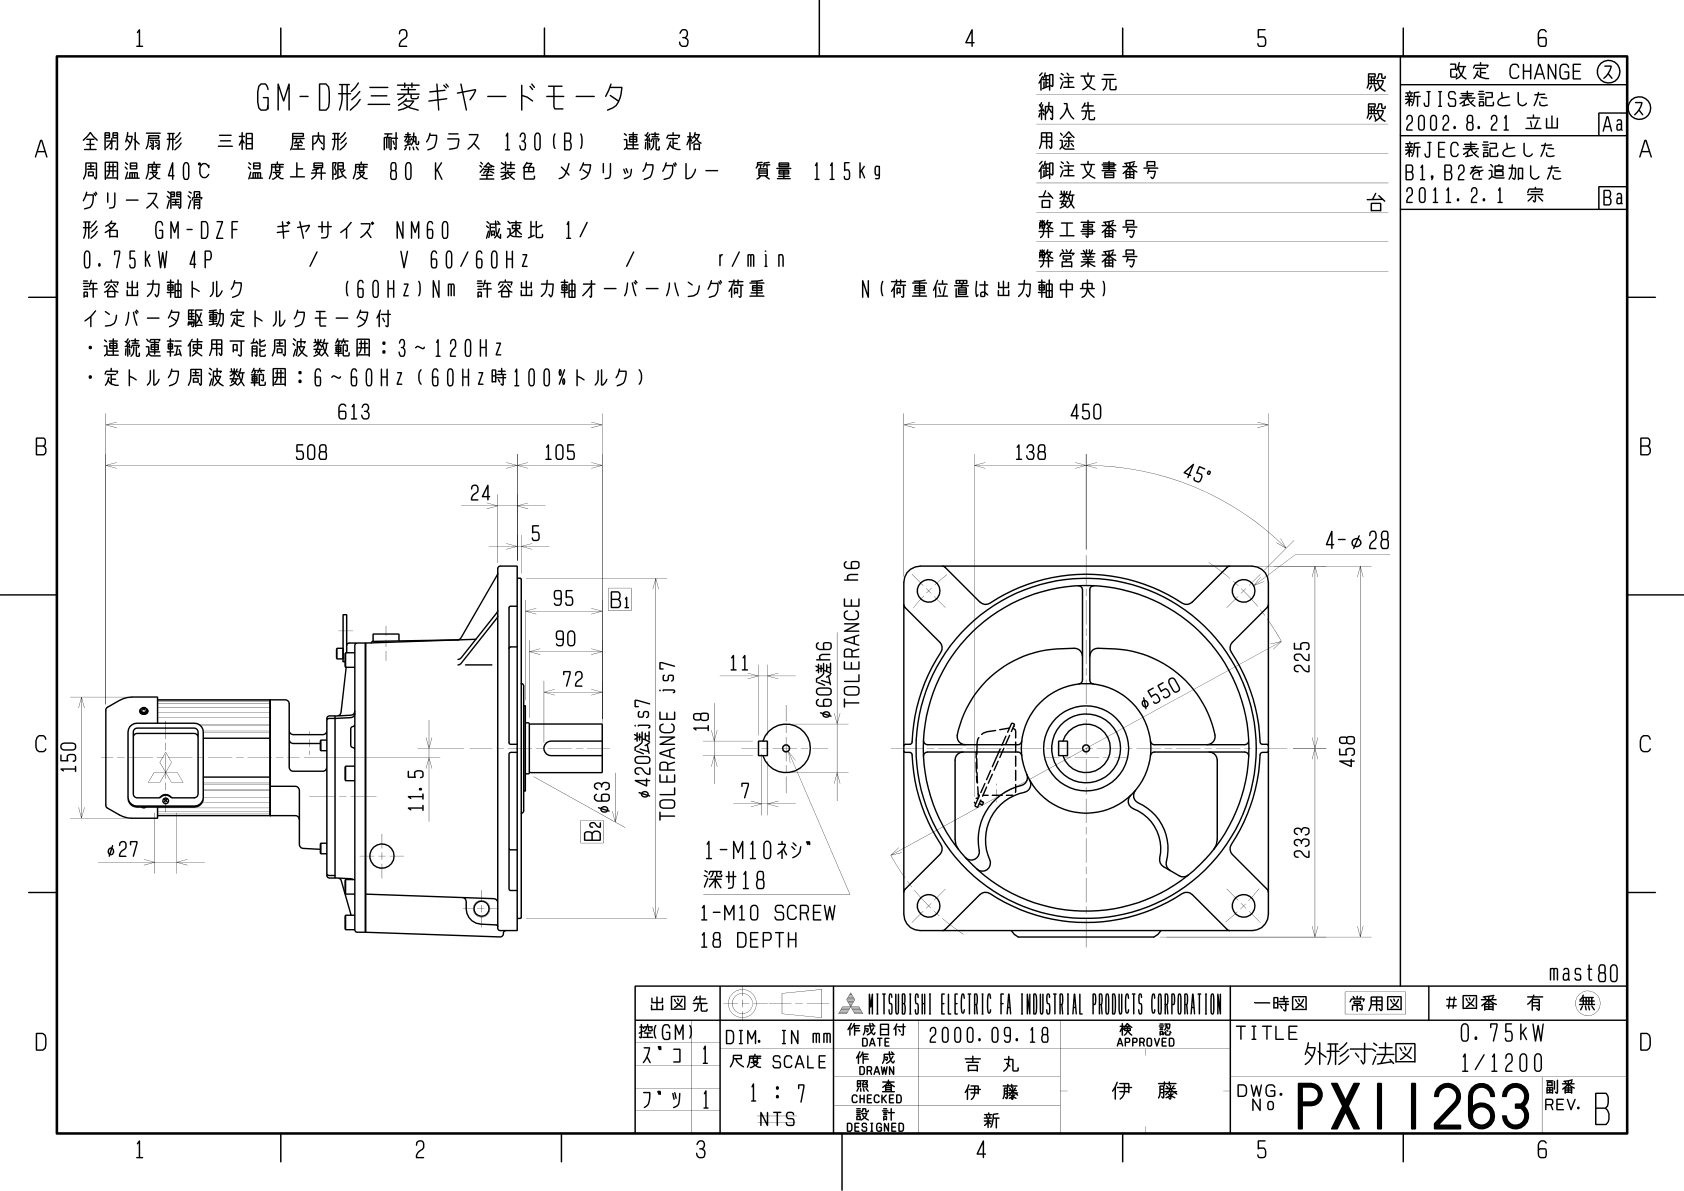GM_D_インバータ屋内_三相_フランジ: (12, 9, 1684, 1191)
